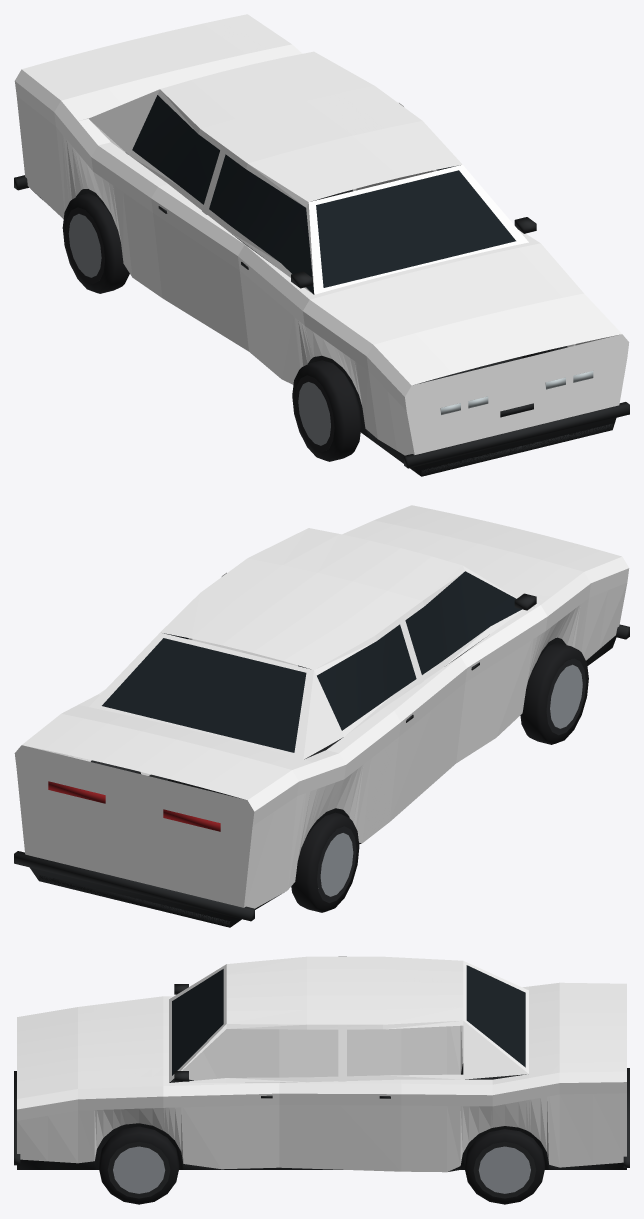
Rendered from ashworth_cerimonial.glb.
3 renders of one model, top to bottom at view 1: azimuth 30°, elevation 25°; view 2: azimuth 150°, elevation 25°; view 3: azimuth 270°, elevation 25°, orthographic. The views are drawn at different scales.
Parts seen in each view (by area): view 1: Body_Paint, Body_Details, Mount_FrontLeft_Wheel_Details, Mount_RearLeft_Wheel_Details; view 2: Body_Paint, Body_Details, Mount_FrontLeft_Wheel_Details, Mount_RearLeft_Wheel_Details; view 3: Body_Paint, Body_Details, Mount_FrontRight_Wheel_Details, Mount_RearRight_Wheel_Details.
Part boxes in pixels (x1=…): Body_Paint: x1=14, y1=14, x2=629, y2=455; Body_Details: x1=14, y1=95, x2=629, y2=476; Mount_FrontLeft_Wheel_Details: x1=292, y1=360, x2=361, y2=461; Mount_RearLeft_Wheel_Details: x1=62, y1=193, x2=129, y2=293; Body_Paint: x1=14, y1=505, x2=629, y2=908; Body_Details: x1=14, y1=571, x2=629, y2=927; Mount_FrontLeft_Wheel_Details: x1=520, y1=643, x2=588, y2=744; Mount_RearLeft_Wheel_Details: x1=291, y1=812, x2=359, y2=912; Body_Paint: x1=17, y1=956, x2=626, y2=1172; Body_Details: x1=14, y1=965, x2=629, y2=1171; Mount_FrontRight_Wheel_Details: x1=99, y1=1126, x2=179, y2=1204; Mount_RearRight_Wheel_Details: x1=464, y1=1129, x2=544, y2=1204.
Size of the model in its own units: 2.04 by 1.62 by 5.36.
Materials: 2 (1 with a texture image).
